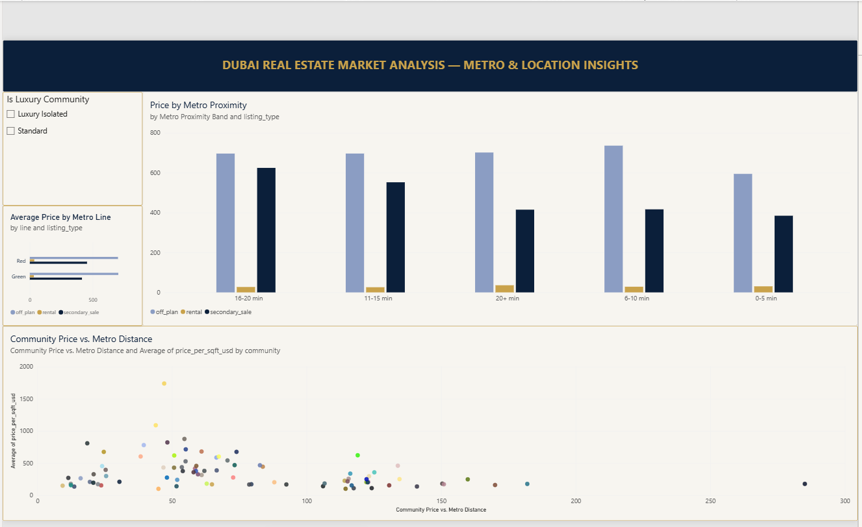

The page's visual inventory and layout, read from the dashboard file:
{"tool":"powerbi","page":{"name":"Metro & Location Insights","canvas":[1920,1080],"ordinal":2},"visuals":[{"type":"clusteredColumnChart","fields":{"Category":["fact_listings.Metro Proximity Band"],"Series":["fact_listings.listing_type"],"Y":["Avg(fact_listings.price_per_sqft_usd)"]},"box":[0,0,1606.3,539.8],"z":0},{"type":"scatterChart","title":"Community Price vs. Metro Distance","fields":{"Series":["fact_listings.community"],"X":["Avg(fact_listings.metro_distance_min)"],"Y":["Avg(fact_listings.price_per_sqft_usd)"]},"box":[0,539.8,1920,539.8],"z":1000},{"type":"slicer","title":"Luxury Community","fields":{"Values":["fact_listings.Is Luxury Community"]},"box":[1606.3,0,313.7,269.9],"z":2000},{"type":"clusteredBarChart","fields":{"Category":["dim_metro.line"],"Series":["fact_listings.listing_type"],"Y":["Avg(fact_listings.price_per_sqft_usd)"]},"box":[1606,270,314,270],"z":3000}]}

Visuals, with their boxes on the page's 1920x1080 design canvas (x1, y1, x2, y2). These are canvas units, not pixel positions in the 862x527 screenshot, which may show the page scaled, cropped or inside an application window:
clusteredColumnChart - fact_listings.Metro Proximity Band x fact_listings.listing_type: bbox=(0, 0, 1606, 540)
"Community Price vs. Metro Distance" scatterChart: bbox=(0, 540, 1920, 1080)
"Luxury Community" slicer: bbox=(1606, 0, 1920, 270)
clusteredBarChart - dim_metro.line x fact_listings.listing_type: bbox=(1606, 270, 1920, 540)
